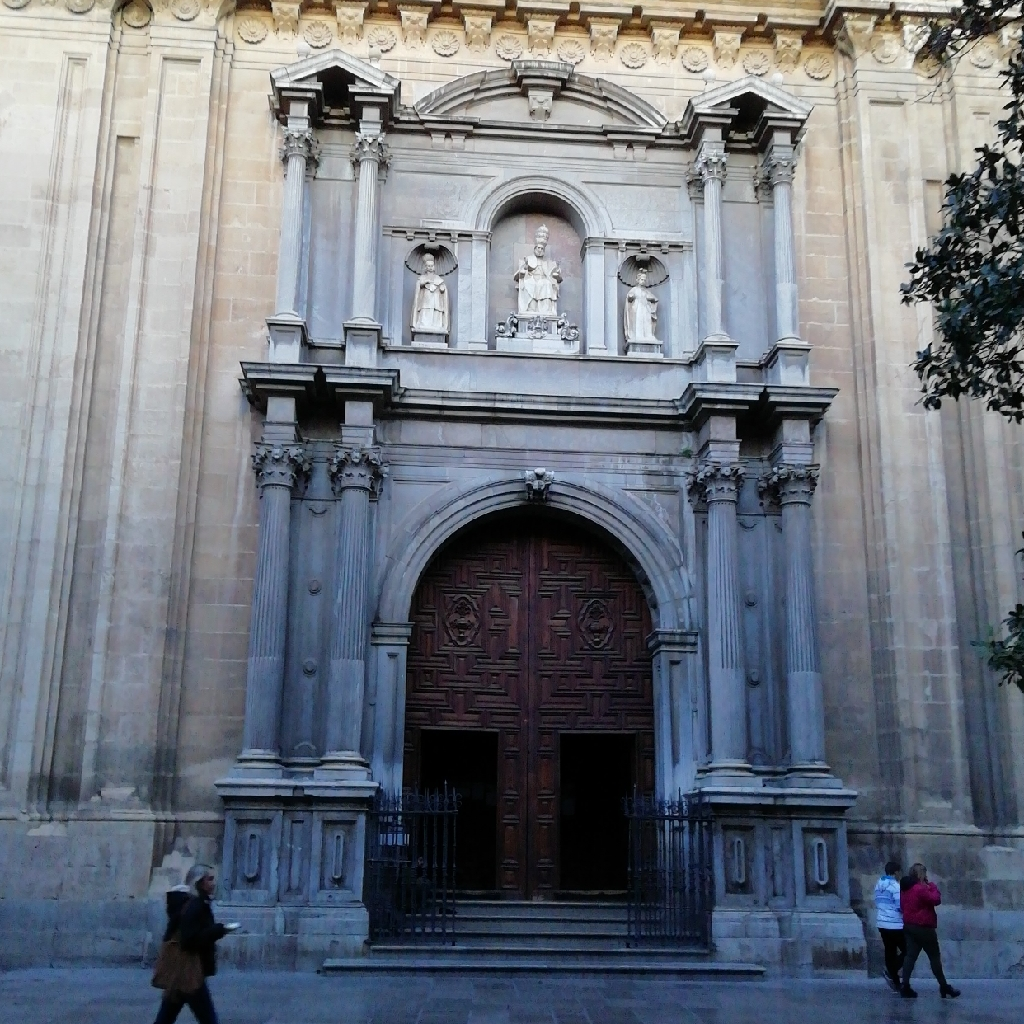arco-medio-punto: (396, 493, 674, 675), (481, 182, 596, 256)
fronton-curvo: (402, 62, 658, 147)
fronton-partido: (268, 50, 400, 107), (690, 75, 812, 127)
serliana: (361, 174, 702, 357)
